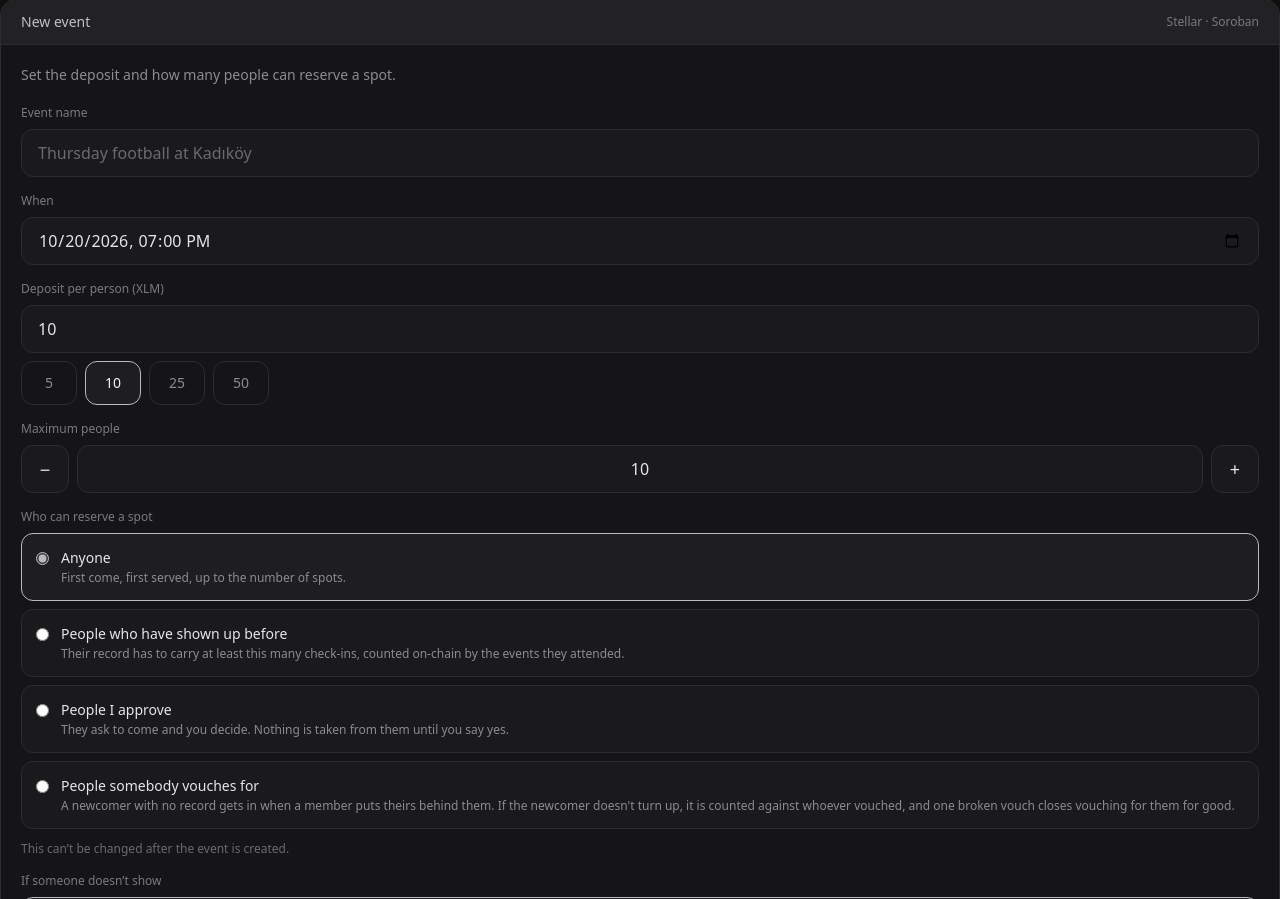
Scenario: CreateEvent — the wait › hands over the links instead of navigating away
Type "Perşembe halı saha" into the field labelled "Event name". click: [640, 153]
box: left=21, top=129, right=1259, bottom=177
(page scrolled)
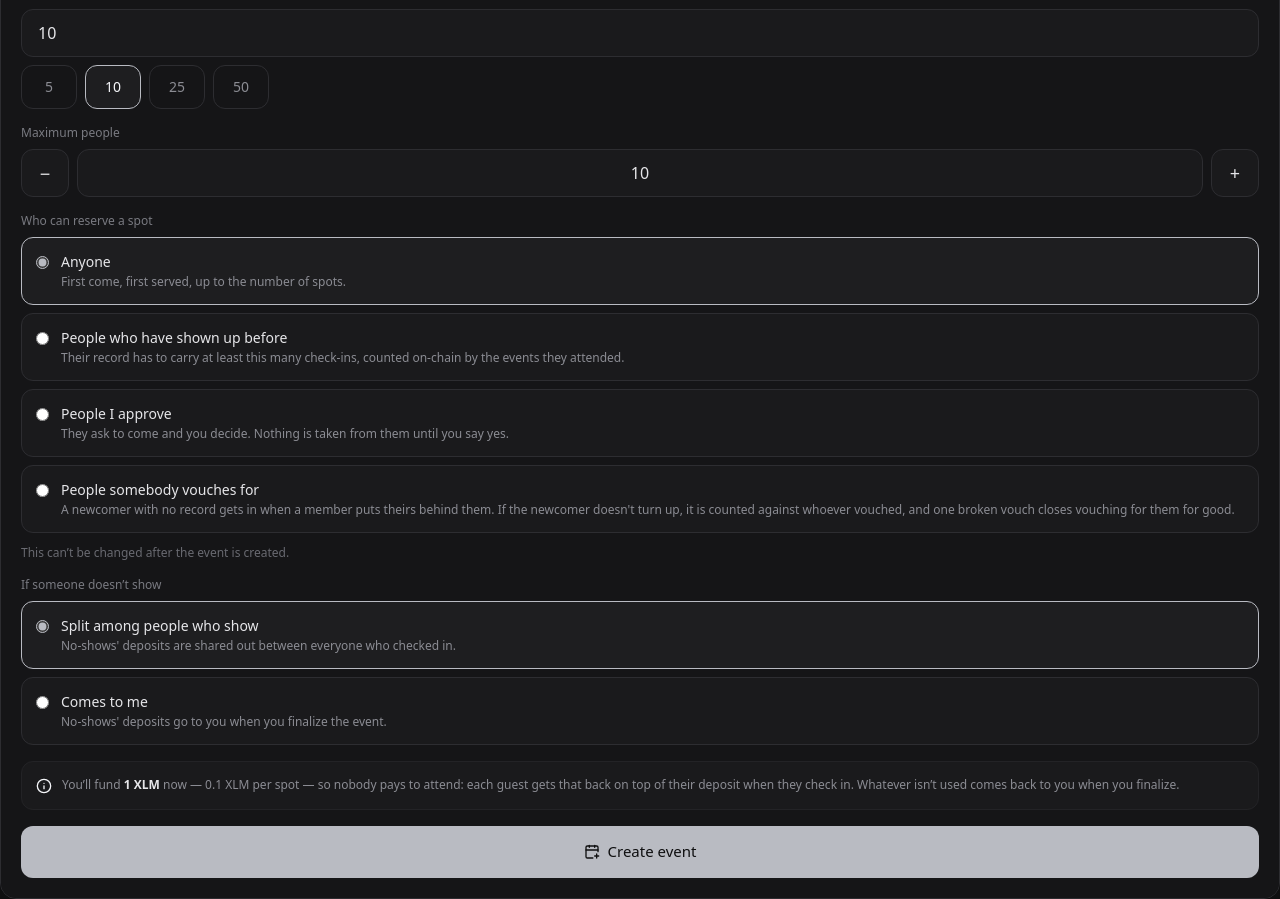
Click the button "Create event". click: [640, 852]
box: left=21, top=826, right=1259, bottom=878
(page scrolled)
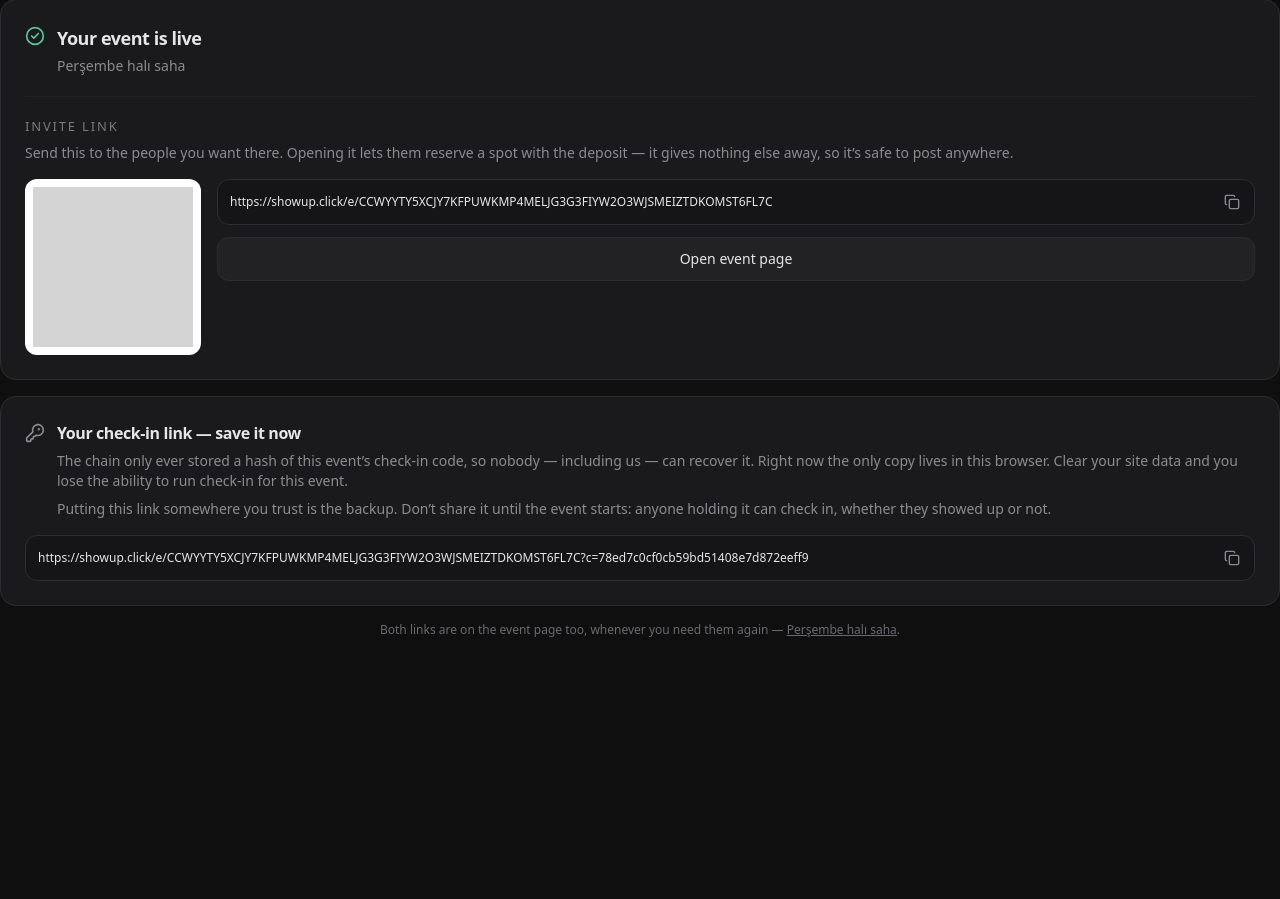
Now the heading "Your event is live" is shown, box left=57, top=24, right=202, bottom=52
